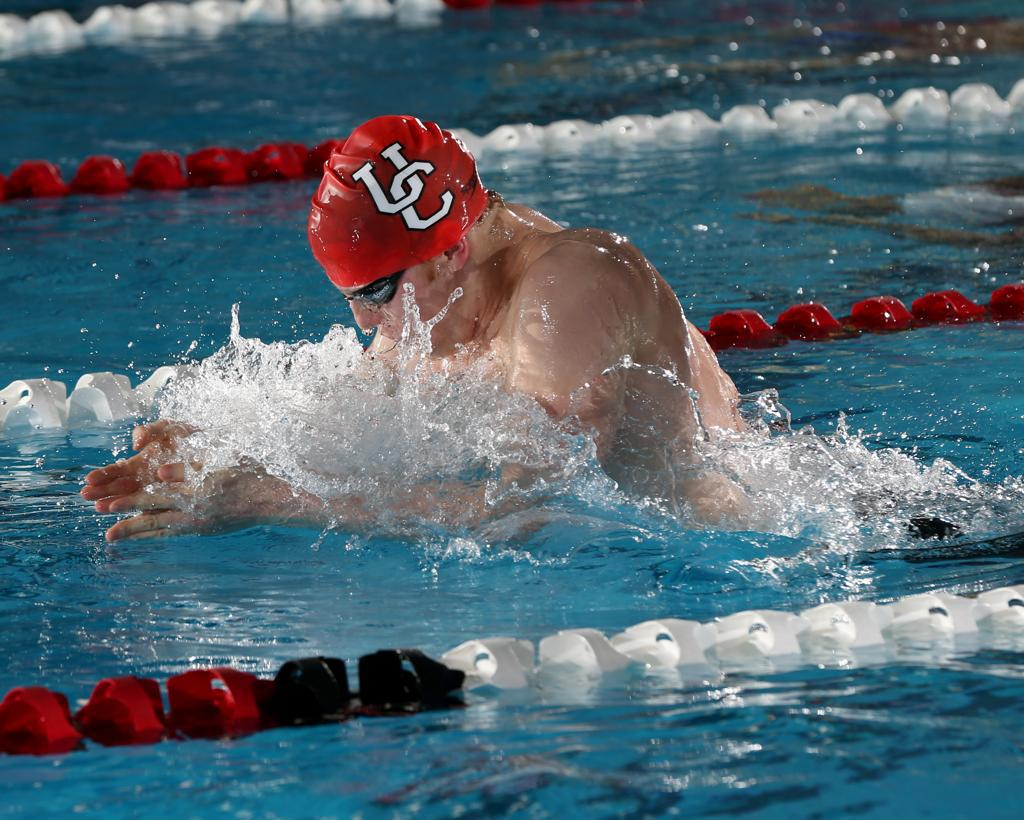face: (337, 259, 453, 355)
